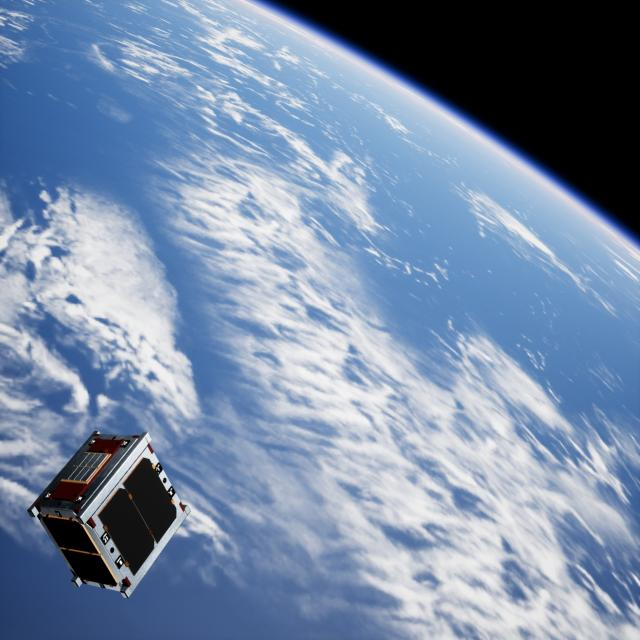medium_debris: (29, 430, 195, 609)
